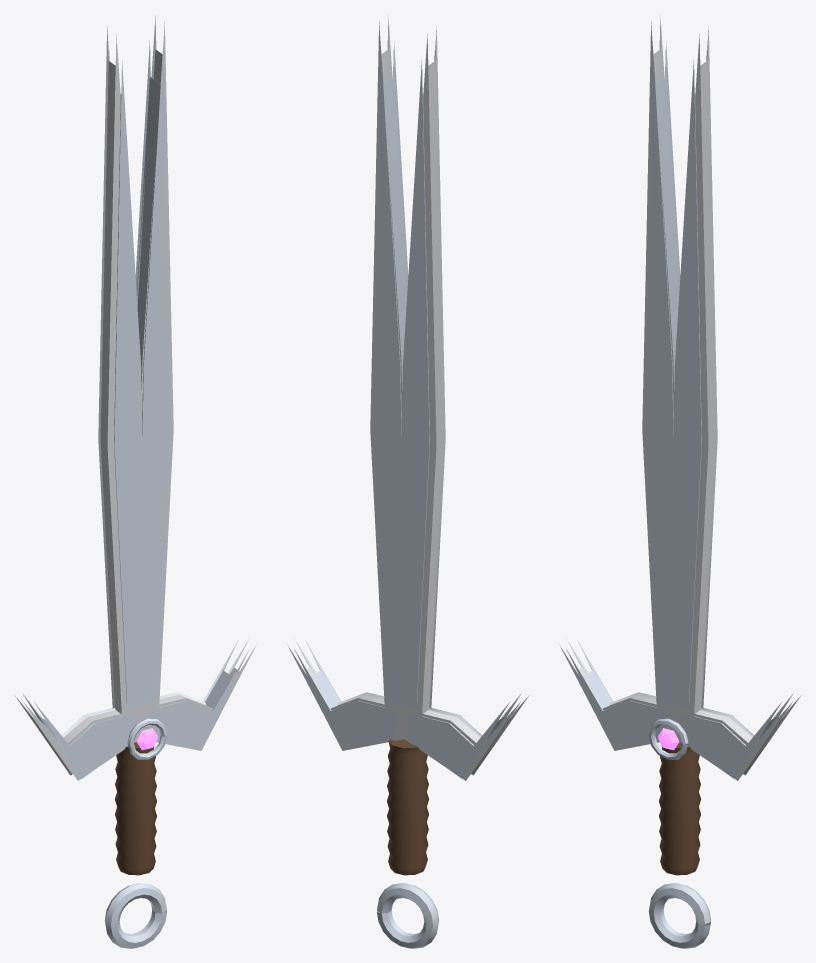
Rendered from artisan_split_crown_sword.glb.
3 renders of one model, left to right at view 1: azimuth 30°, elevation 25°; view 2: azimuth 150°, elevation 25°; view 3: azimuth 330°, elevation 25°, orthographic.
Visible parts, largest first — view 1: artisan_split_crown_sword; view 2: artisan_split_crown_sword; view 3: artisan_split_crown_sword.
Boxes of the visible parts, x1,y1,x2,y2 form: artisan_split_crown_sword: (15, 15, 255, 948); artisan_split_crown_sword: (288, 15, 528, 948); artisan_split_crown_sword: (560, 15, 800, 948).
Size of the model in its own units: 0.3238 by 1.21 by 0.0606.
